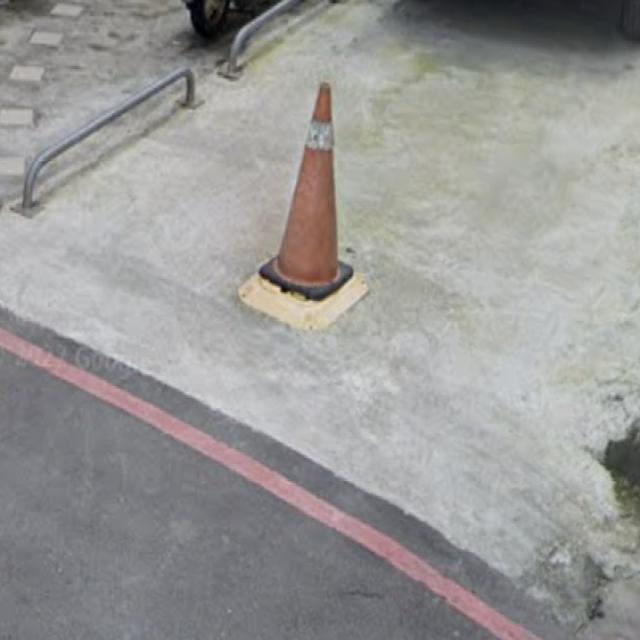cone: (248, 56, 361, 299)
